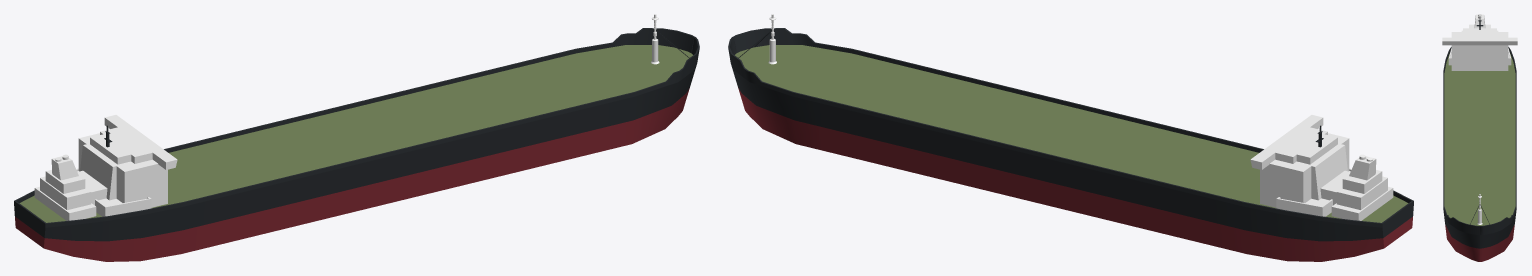
File: CargoshipEmpty.fbx
The picture shows the model from 3 angles, left to right: view 1: azimuth 30°, elevation 25°; view 2: azimuth 150°, elevation 25°; view 3: azimuth 270°, elevation 25°; orthographic projection. The views are drawn at different scales.
Parts seen in each view (by area): view 1: Ship; view 2: Ship; view 3: Ship.
Boxes of the visible parts, x1,y1,x2,y2 form: Ship: (14, 14, 699, 261); Ship: (728, 14, 1413, 261); Ship: (1442, 14, 1517, 261).
Bounding box in the file's own units: 882 × 152 × 141.
